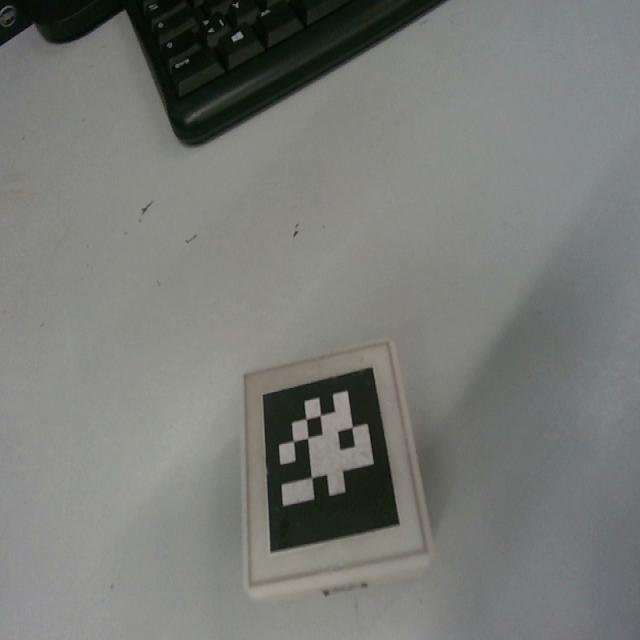Cube: (241, 337, 435, 599)
